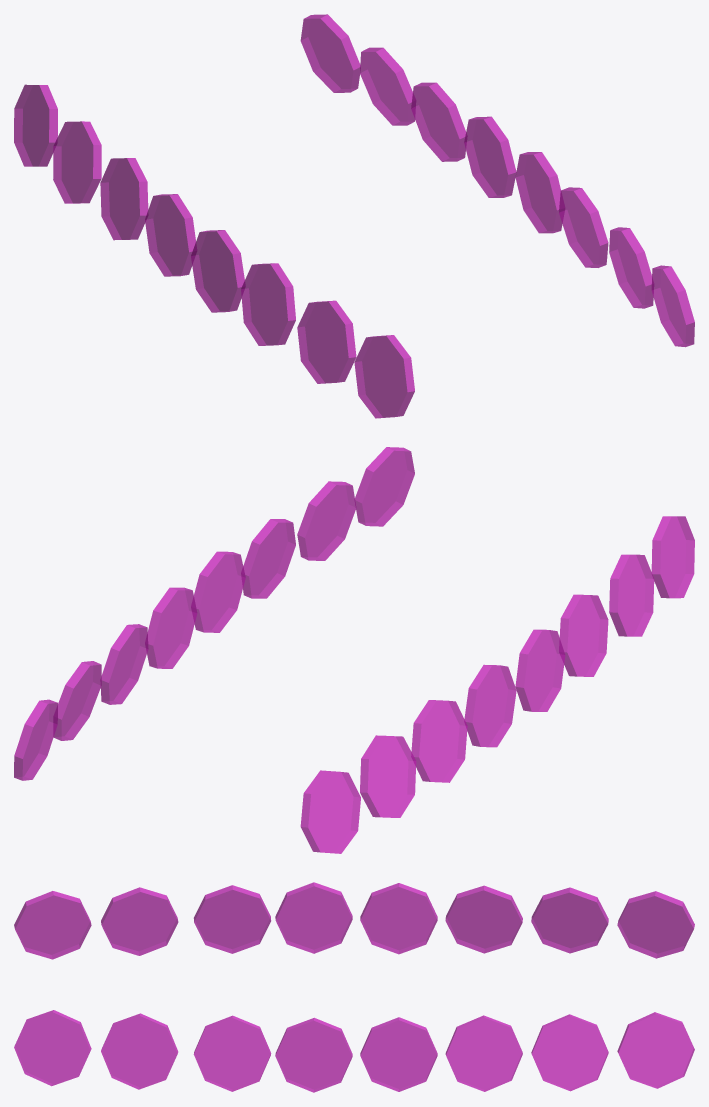
Rendered from SM_Veh_Boat_Medium_01_Shields_01_Collision.fbx.
3 views of the same model, one above another, from view 1: azimuth 30°, elevation 25°; view 2: azimuth 150°, elevation 25°; view 3: azimuth 270°, elevation 25° (orthographic). The views are drawn at different scales.
Visible parts, largest first — view 1: SM_Veh_Boat_Medium_01_Shields_01_Collision; view 2: SM_Veh_Boat_Medium_01_Shields_01_Collision; view 3: SM_Veh_Boat_Medium_01_Shields_01_Collision.
Boxes of the visible parts, x1,y1,x2,y2 form: SM_Veh_Boat_Medium_01_Shields_01_Collision: (14,14,694,418); SM_Veh_Boat_Medium_01_Shields_01_Collision: (14,447,694,853); SM_Veh_Boat_Medium_01_Shields_01_Collision: (14,882,694,1092).
Size of the model in its own units: 464 by 108 by 932.
